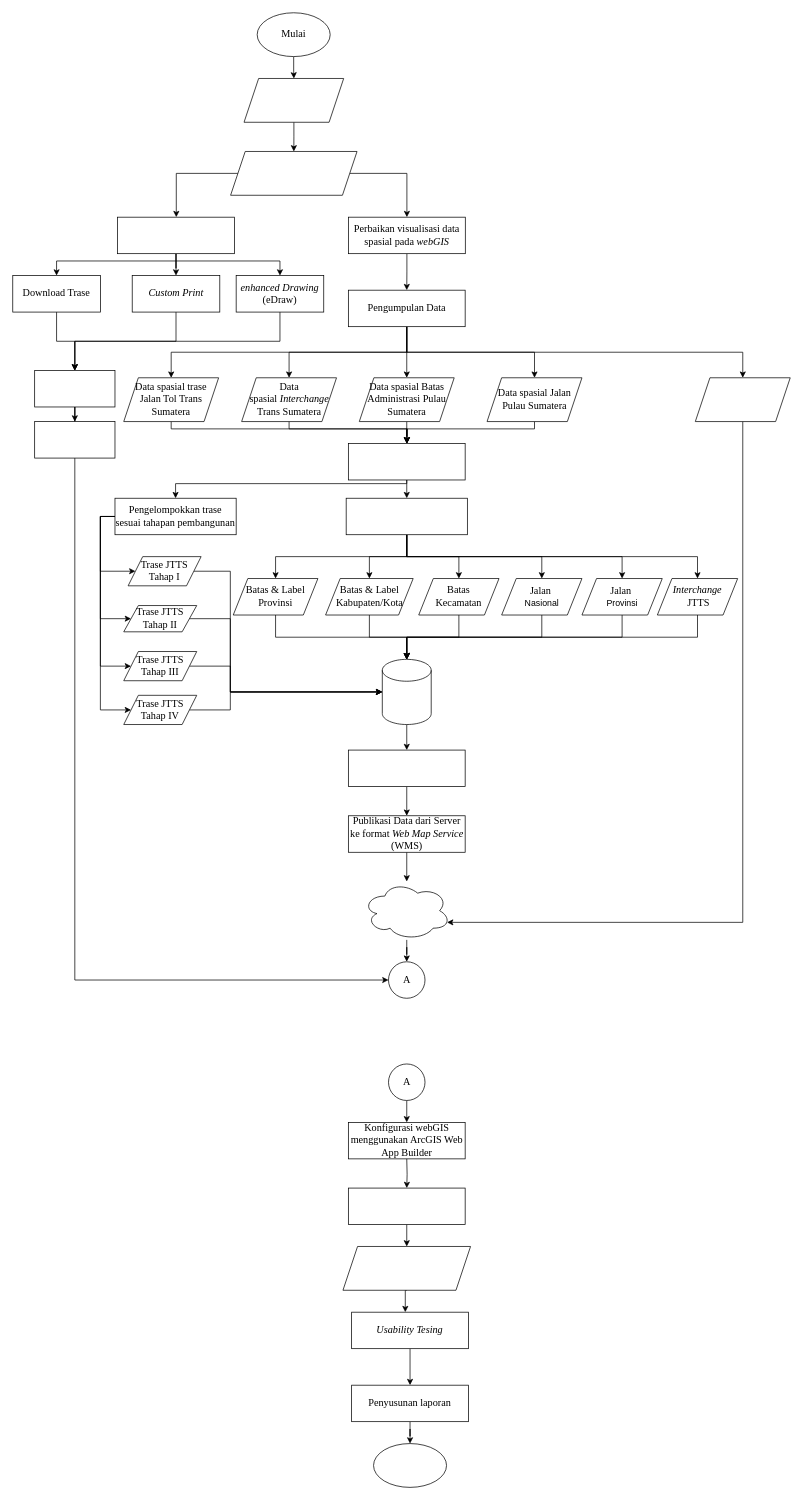
This 803x1500 diagram has some shape labels left out. Each missing label, with the centre of its shape:
"ArcGIS Rest API" belongs at pixel 406 910.
"ArcGIS Server" belongs at pixel 406 692.
"Data Pendukung dari Kementerian/ Lembaga (.WMS)" belongs at pixel 742 399.
"Deployment webGIS" belongs at pixel 406 1206.
"Functionality Testing" belongs at pixel 74 439.
"Hosting widget" belongs at pixel 74 388.
"Pengembangan widget untuk marking , unduh data, dan cetak data" belongs at pixel 175 235.
"Pengolahan Data" belongs at pixel 406 461.
"Selesai" belongs at pixel 410 1465.
"Simbolisasi dan labeling" belongs at pixel 406 516.
"User Requirement (Hasil RTM Divisi Perencanaan Jalan Tol Tahun 2022)" belongs at pixel 293 173.
"Visualisasi Data Spasial" belongs at pixel 406 768.
"webGIS Jalan Tol Trans Sumatera" belongs at pixel 293 100.
"webGIS JalanTol Trans Sumatera (Development)" belongs at pixel 406 1268.
